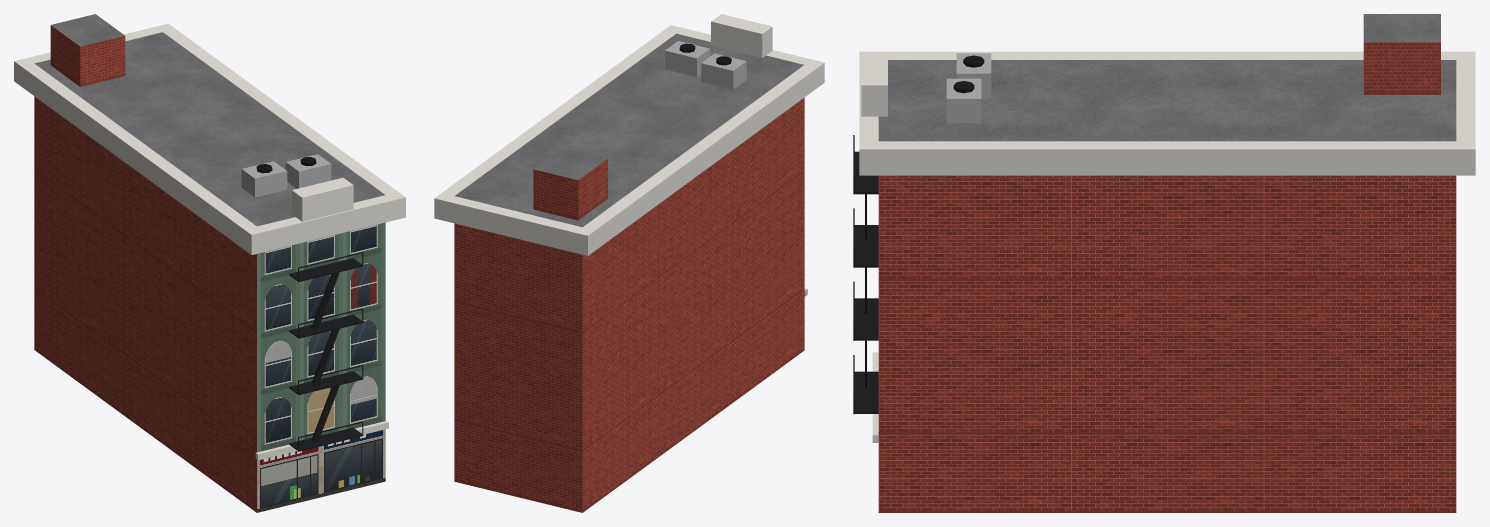
Rendered from 029_castiron_green.glb.
3 renders of one model, left to right at view 1: azimuth 30°, elevation 25°; view 2: azimuth 150°, elevation 25°; view 3: azimuth 270°, elevation 25°, orthographic. The views are drawn at different scales.
Visible parts, largest first — view 1: 029_castiron_green; view 2: 029_castiron_green; view 3: 029_castiron_green.
Part boxes in pixels (<box>): 029_castiron_green: <box>14,14,405,512</box>; 029_castiron_green: <box>434,14,824,512</box>; 029_castiron_green: <box>853,14,1475,512</box>.
Size of the model in its own units: 12 by 24.3 by 32.3.
Materials: 8 (4 with a texture image).
